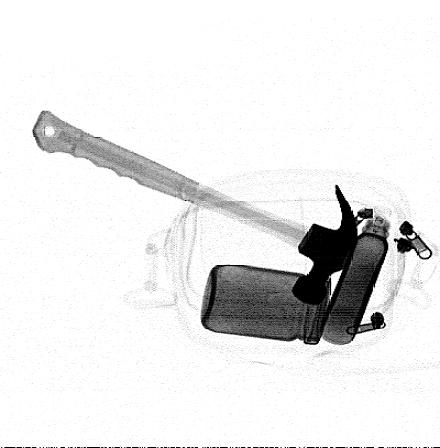Hammer: (31, 109, 359, 306)
